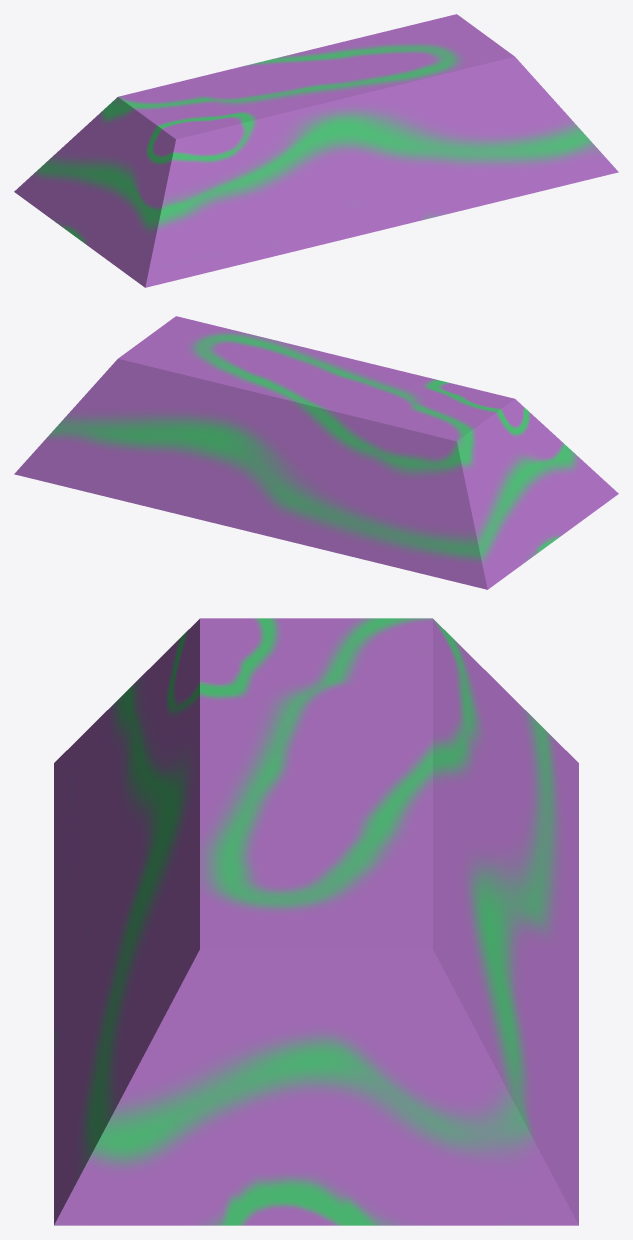
Rendered from Astronium_Bar.fbx.
3 renders of one model, top to bottom at view 1: azimuth 30°, elevation 25°; view 2: azimuth 150°, elevation 25°; view 3: azimuth 270°, elevation 25°, orthographic. The views are drawn at different scales.
Parts seen in each view (by area): view 1: Astronium_Bar; view 2: Astronium_Bar; view 3: Astronium_Bar.
Part boxes in pixels (box(x1,y1,x2,y2)): Astronium_Bar: box(14, 14, 618, 287); Astronium_Bar: box(14, 316, 618, 589); Astronium_Bar: box(54, 618, 578, 1225).
Bounding box in the file's own units: 300 × 63.73 × 144.
1 material, 1 textured.
